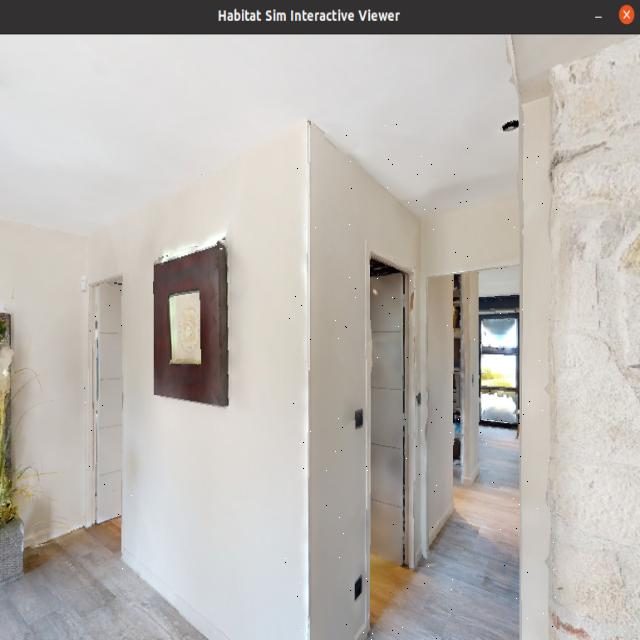door-frame: (282, 123, 557, 640), (70, 272, 141, 576)
